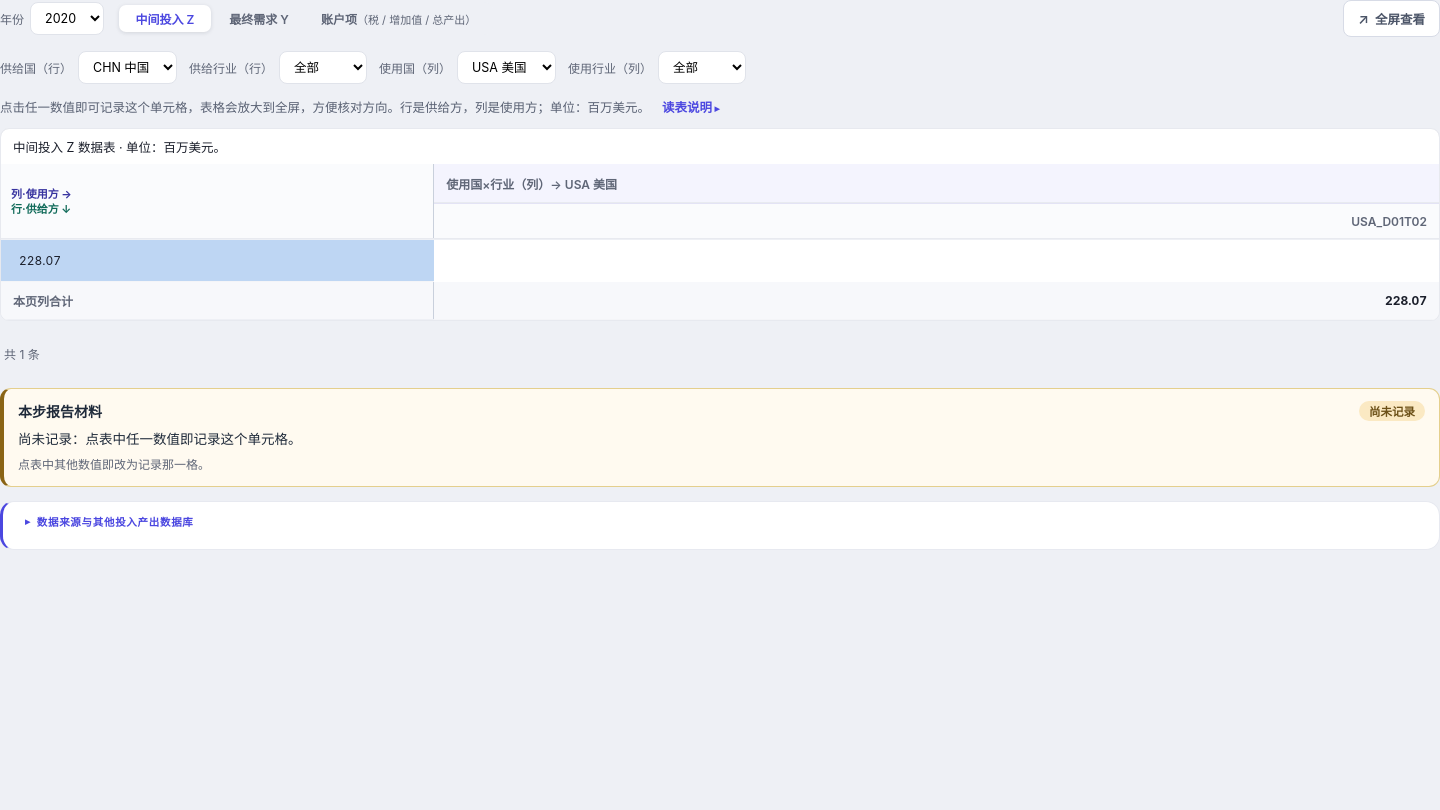
step 1 cell activation › clicking a value cell records it and opens the fullscreen table
This screenshot has width=1440, height=810.
Click the button titled "CHN 中国·D01T02（行·供给方） → USA 美国·D01T02（列·使用方），值 228.07 百万美元，未记" at (40, 260), box [13,249,422,272]
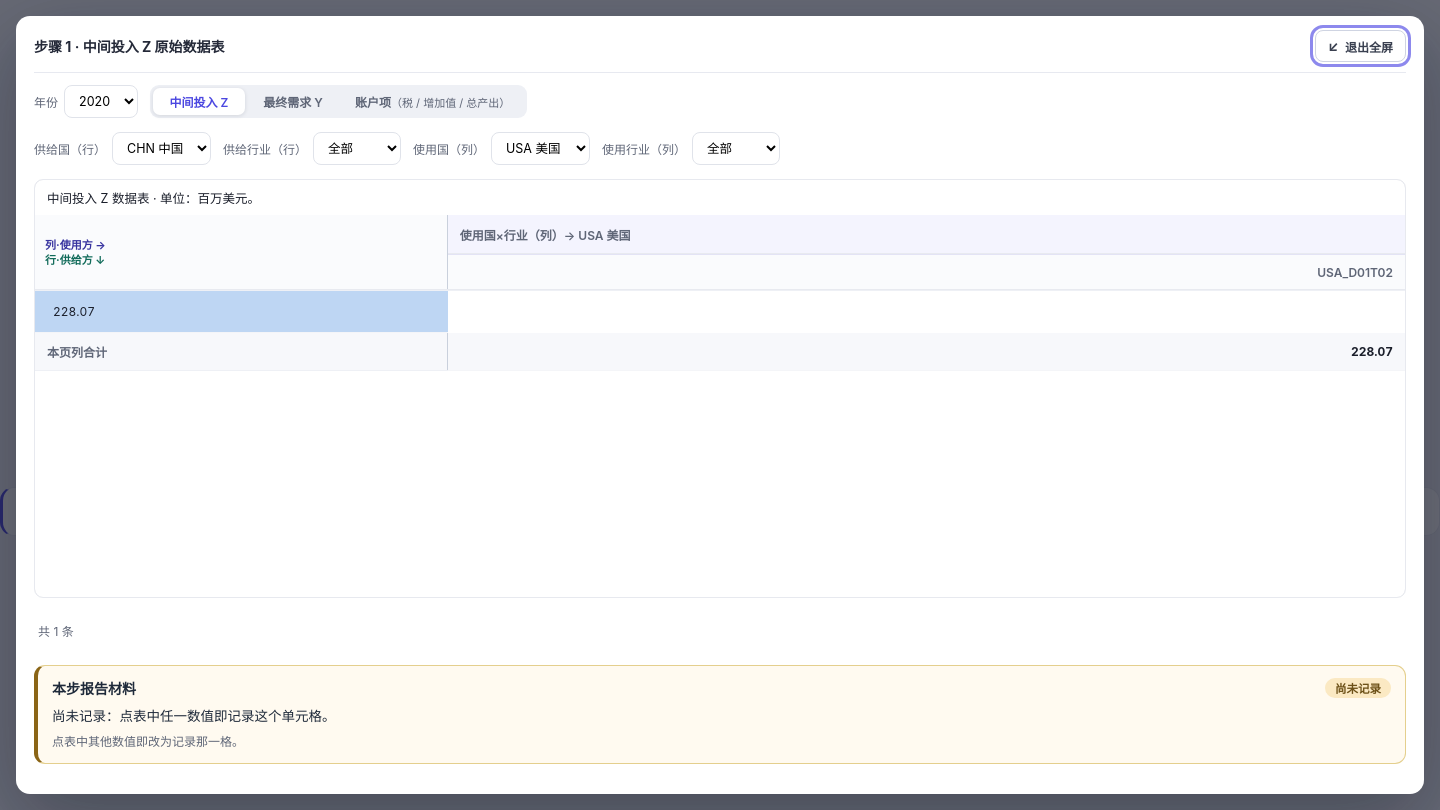
Expected: the column heading "USA_D01T02" is shown, [448,255,1405,291]
Expected: the dialog is shown
